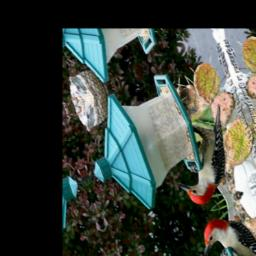Woodpecker: (160, 103, 246, 214)
